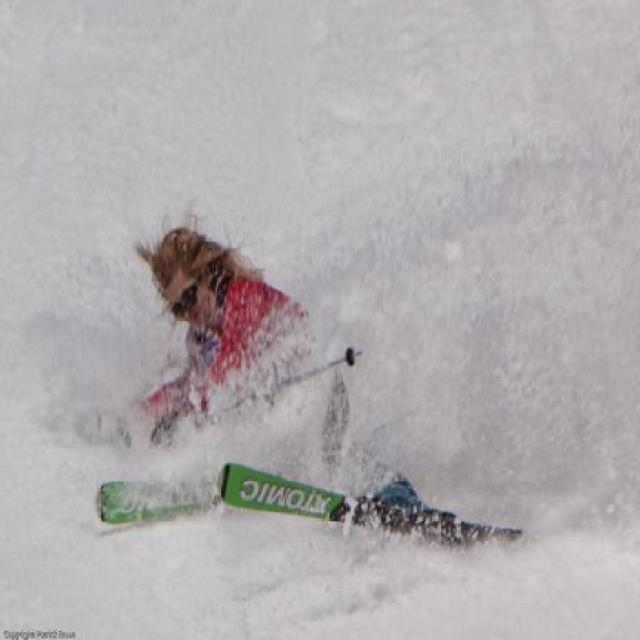obstacle: (123, 194, 429, 512)
